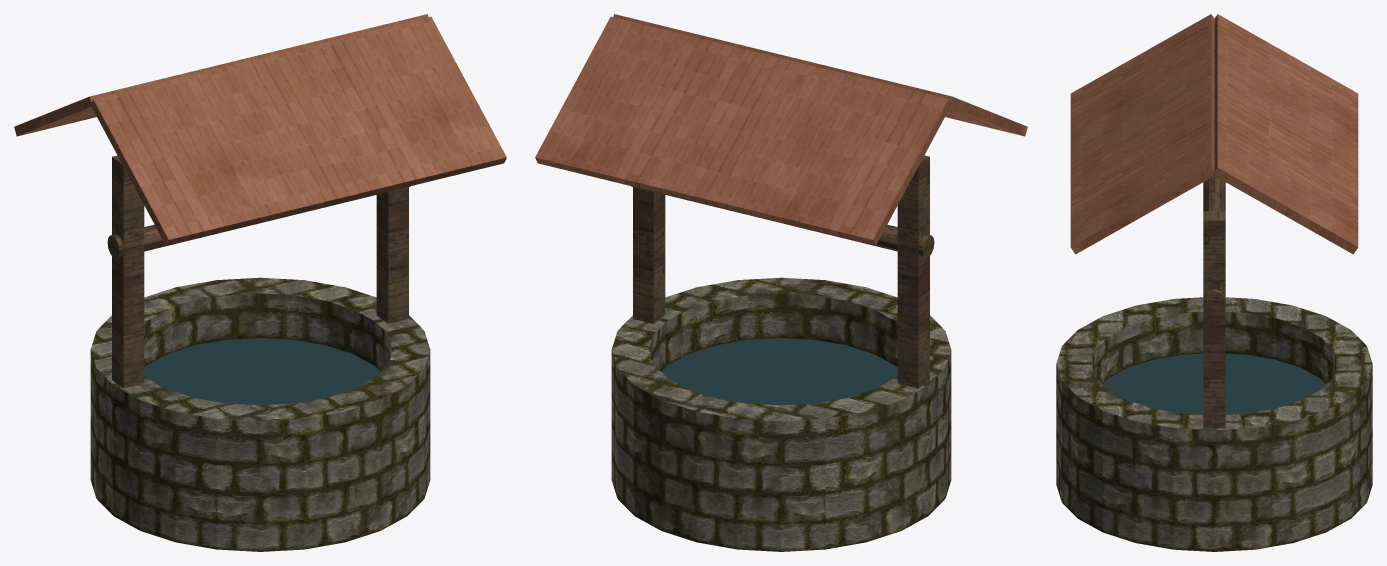
Rendered from town_well.glb.
3 views of the same model, side by side, from view 1: azimuth 30°, elevation 25°; view 2: azimuth 150°, elevation 25°; view 3: azimuth 270°, elevation 25° (orthographic). The views are drawn at different scales.
Visible parts, largest first — view 1: town_well; view 2: town_well; view 3: town_well.
Part boxes in pixels (x1,y1,x2,y2): town_well: [14, 14, 506, 551]; town_well: [535, 14, 1027, 551]; town_well: [1056, 14, 1372, 551].
Bounding box in the file's own units: 2.3 × 2.75 × 2.
4 materials, 3 textured.
